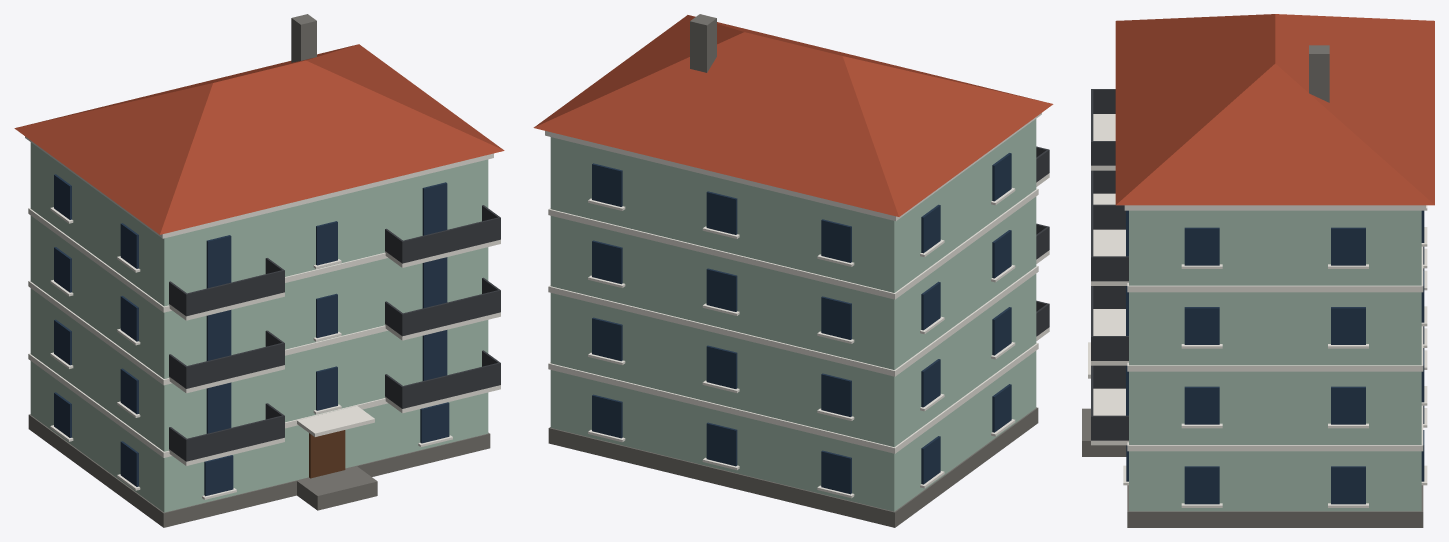
The model's file is Apartman_C.fbx.
3 renders of one model, left to right at view 1: azimuth 30°, elevation 25°; view 2: azimuth 150°, elevation 25°; view 3: azimuth 270°, elevation 25°, orthographic. The views are drawn at different scales.
Parts seen in each view (by area): view 1: Apartman_C; view 2: Apartman_C; view 3: Apartman_C.
Boxes of the visible parts, x1,y1,x2,y2 form: Apartman_C: (14, 14, 504, 527); Apartman_C: (533, 14, 1053, 527); Apartman_C: (1082, 14, 1434, 527).
Size of the model in its own units: 14.9 by 16.05 by 12.05.
